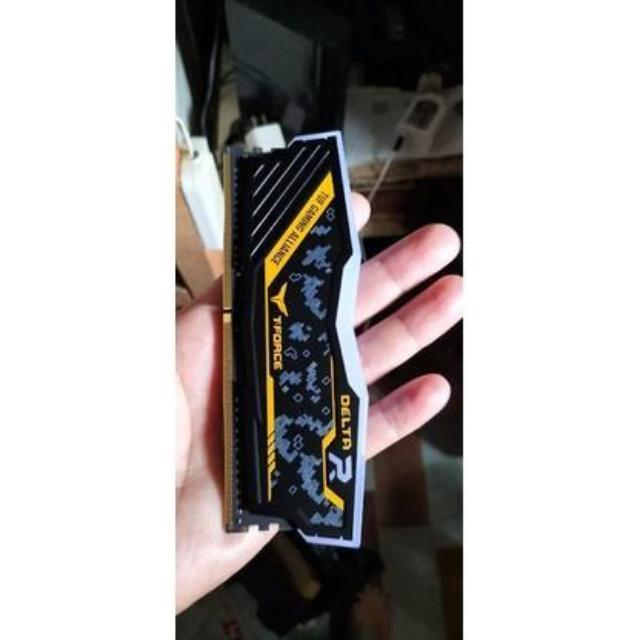RAM: (203, 126, 371, 551)
